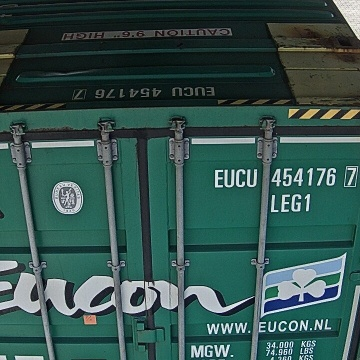serial_id: (214, 166, 358, 187)
